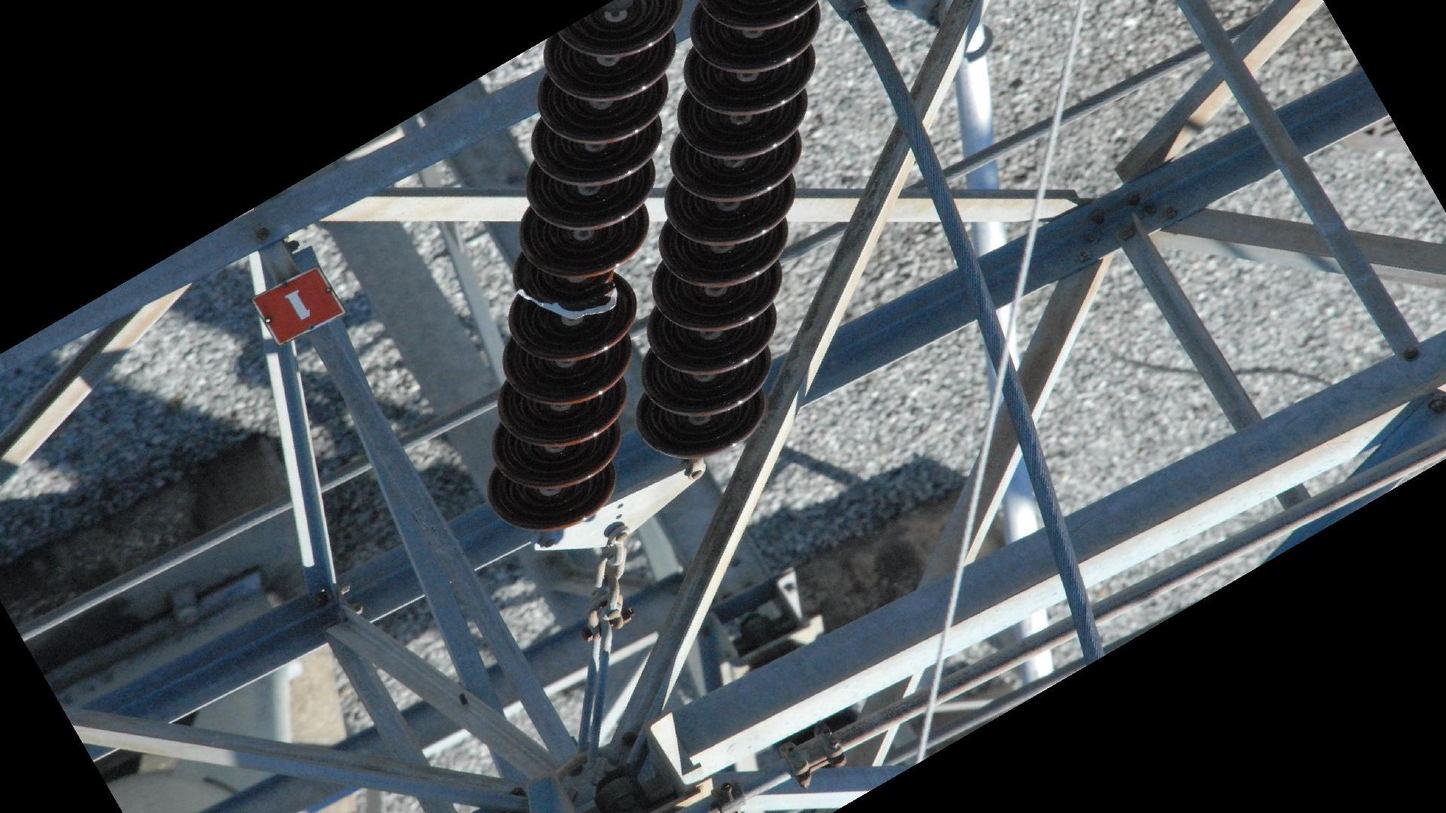insulator: (482, 1, 685, 536), (629, 1, 825, 469)
insulator_breakage: (512, 274, 621, 323)
